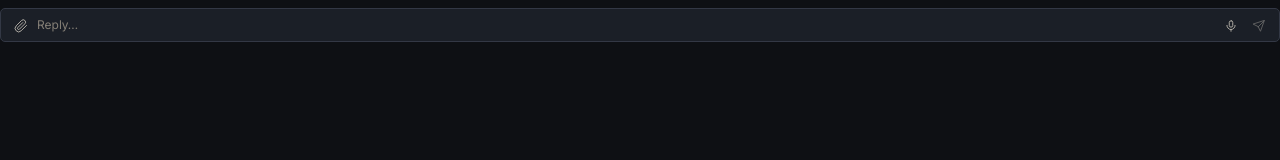
the voice area › VOM-FR-IAVZ: with no speech route, Voice is disabled and says why
Click the button with test id "voice-button": (1231, 26) [1219, 15, 1243, 37]
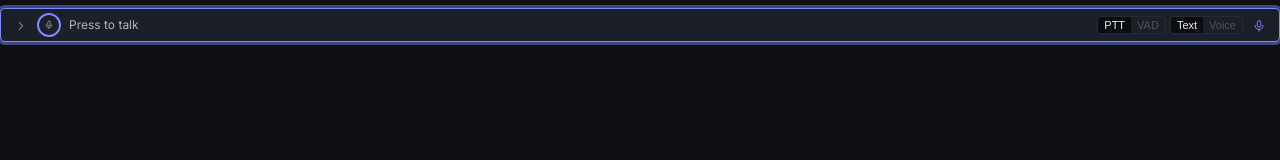
Expected: the button "Voice" is disabled, [1203, 17, 1242, 33]
